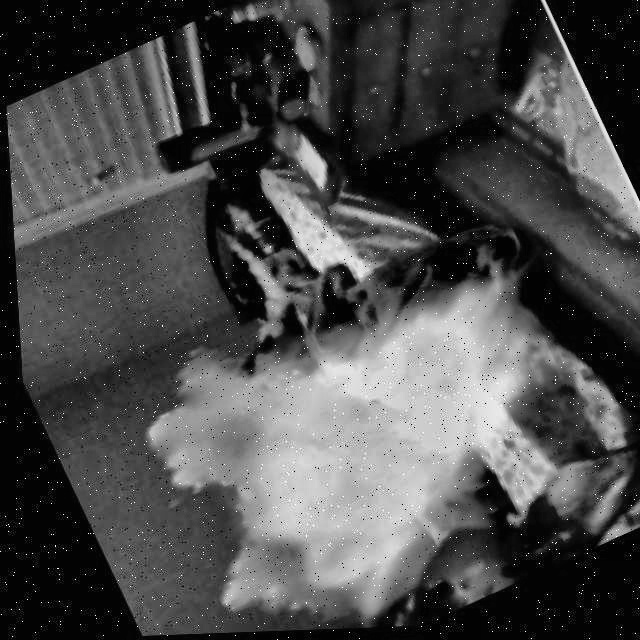Smoke: (150, 315, 478, 596)
